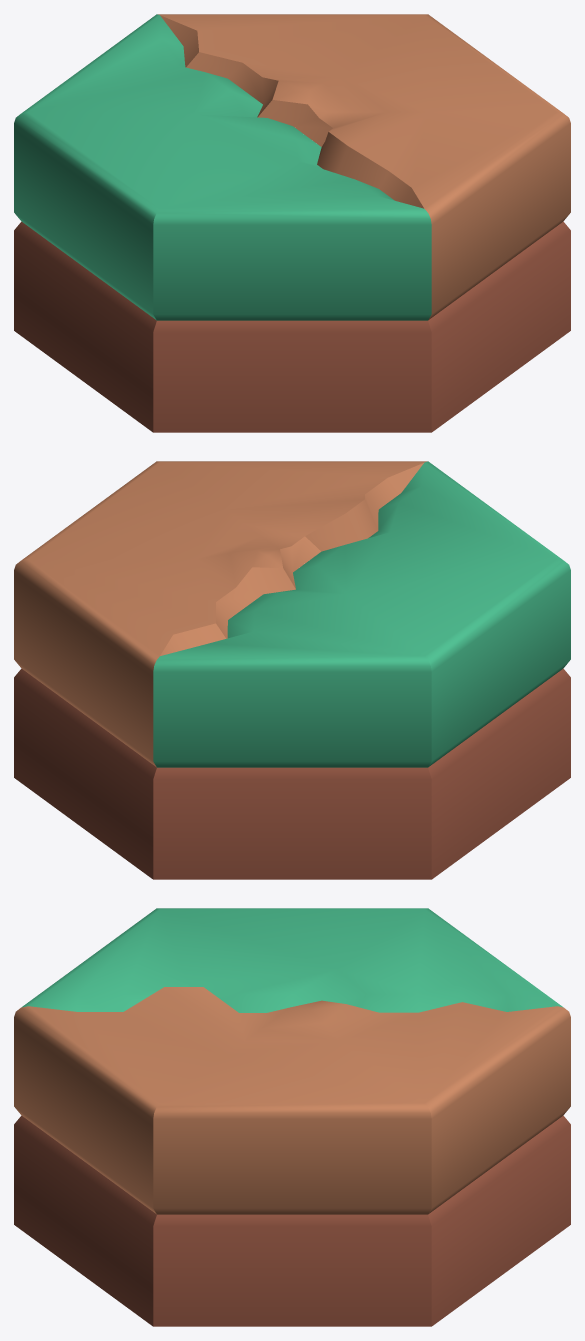
The model's file is kaykit-hex-forest-transitiona.glb.
3 renders of one model, top to bottom at view 1: azimuth 30°, elevation 25°; view 2: azimuth 150°, elevation 25°; view 3: azimuth 270°, elevation 25°, orthographic.
Parts seen in each view (by area): view 1: hex_forest_transitionA; view 2: hex_forest_transitionA; view 3: hex_forest_transitionA.
Boxes of the visible parts, bbox=[...] form: hex_forest_transitionA: bbox=[14, 14, 570, 432]; hex_forest_transitionA: bbox=[14, 461, 570, 879]; hex_forest_transitionA: bbox=[14, 908, 570, 1326].
Size of the model in its own units: 2 by 1.07 by 2.31.
